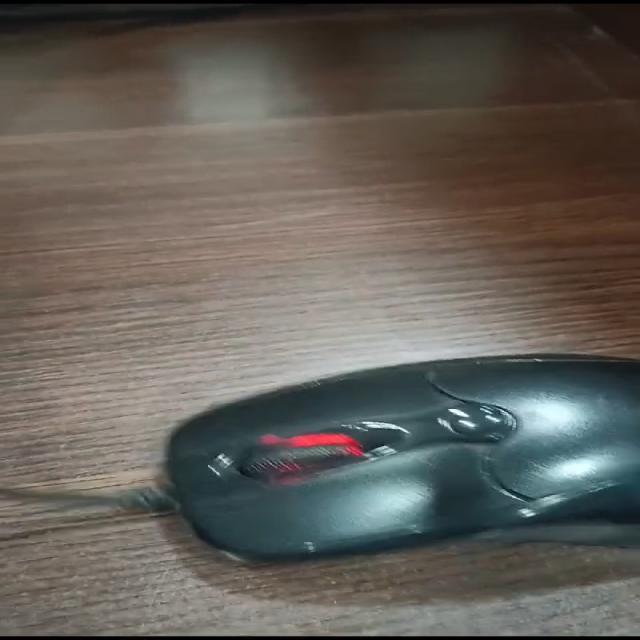mouse: (96, 339, 640, 570)
